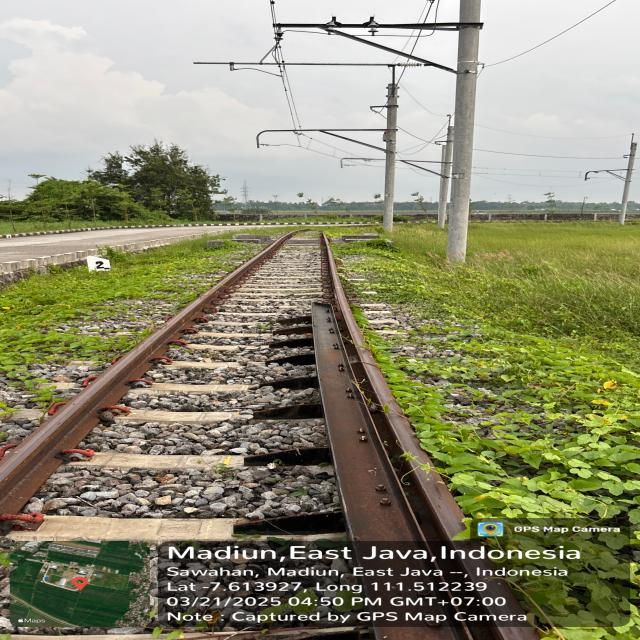rail-detection: (0, 233, 294, 511), (332, 270, 464, 540), (321, 234, 377, 368), (365, 367, 394, 405), (390, 406, 401, 415)
